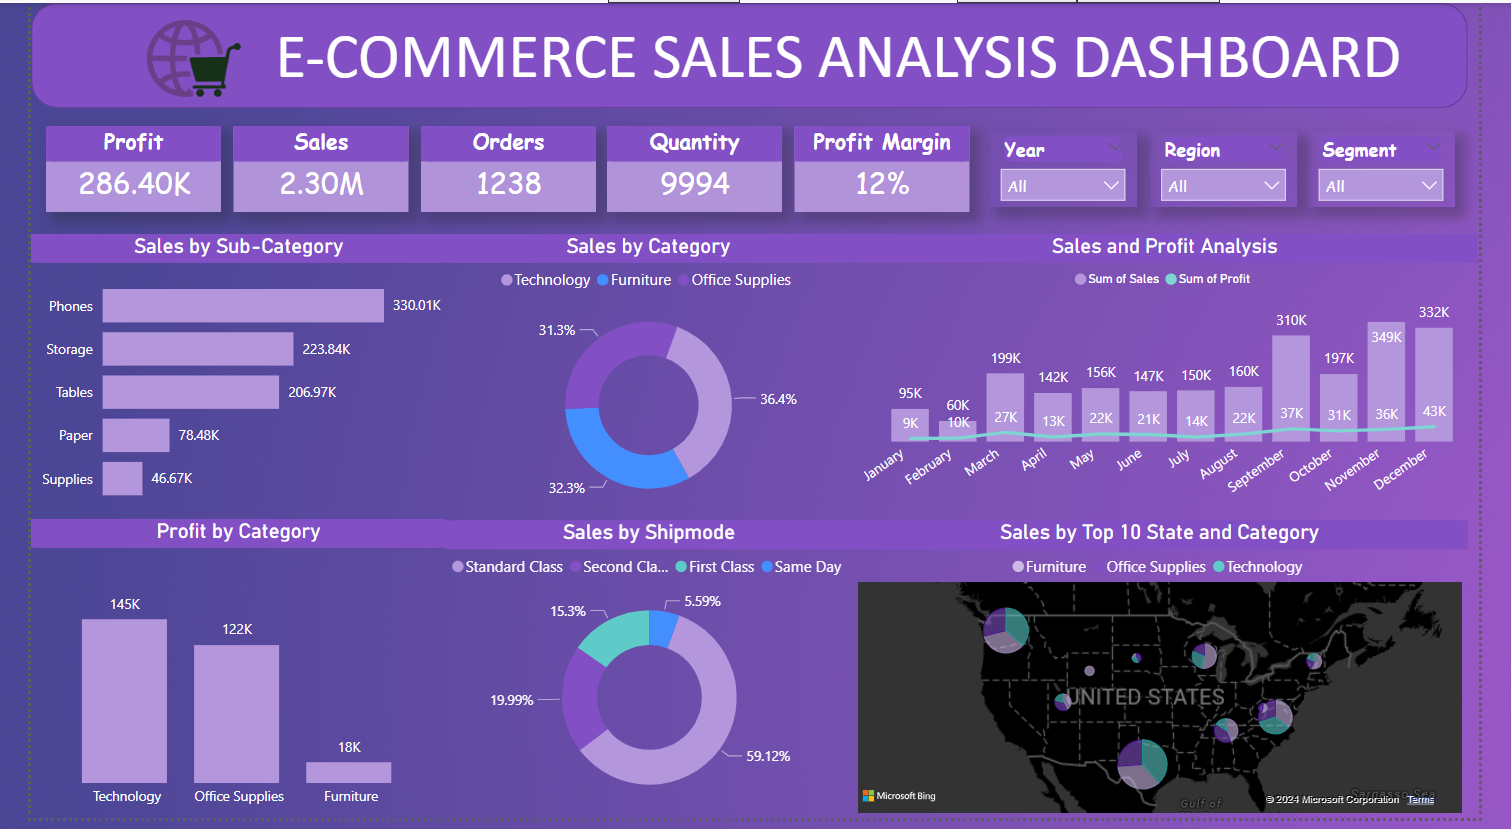

This screenshot's page, from the dashboard's own definition file:
{"tool":"powerbi","page":{"name":"Dashboard","canvas":[1280,720],"ordinal":0},"visuals":[{"type":"card","title":" Profit","fields":{"Values":["Sum(Data.Profit)"]},"box":[13.1,108.1,154.8,75.9],"z":0},{"type":"card","title":" Sales ","fields":{"Values":["Sum(Data.Sales)"]},"box":[179.6,108.1,154.8,75.9],"z":1000},{"type":"card","title":"Orders","fields":{"Values":["Count(Data.Order Date)"]},"box":[344.7,108.1,154.8,75.9],"z":2000},{"type":"card","title":"Quantity","fields":{"Values":["CountNonNull(Data.Quantity)"]},"box":[509.7,108.1,154.8,75.9],"z":3000},{"type":"shape","box":[0,0,1270,92.9],"z":4000},{"type":"donutChart","title":"Sales by Category","fields":{"Category":["Data.Category"],"Y":["Sum(Data.Sales)"]},"box":[366.6,204.5,359.3,252.7],"z":5000},{"type":"clusteredBarChart","title":"Sales by Sub-Category","fields":{"Y":["Sum(Data.Sales)"],"Category":["Data.Sub-Category"]},"box":[0,204.8,367,252],"z":6000},{"type":"columnChart","title":" Profit by Category","fields":{"Y":["Sum(Data.Profit)"],"Category":["Data.Category"]},"box":[0,456.8,367,263],"z":7000},{"type":"lineStackedColumnComboChart","title":"Sales and Profit Analysis","fields":{"Y":["Sum(Data.Sales)"],"Category":["Data.Order Date.Variation.Date Hierarchy.Month"],"Y2":["Sum(Data.Profit)"]},"box":[725.8,204.5,553.5,251.2],"z":8000},{"type":"map","title":" Sales by Top 10 State and Category","fields":{"Category":["Data.State"],"Size":["Sum(Data.Sales)"],"Series":["Data.Category"]},"box":[725.8,457.1,544.7,262.9],"z":9000},{"type":"slicer","fields":{"Values":["Data.Year"]},"box":[847.1,112.5,130,67.2],"z":10000},{"type":"textbox","box":[182.9,7.1,1061.4,80],"z":11000},{"type":"slicer","fields":{"Values":["Data.Region"]},"box":[988.7,112.5,130,67.2],"z":12000},{"type":"slicer","fields":{"Values":["Data.Segment"]},"box":[1128.9,112.5,130,67.2],"z":13000},{"type":"donutChart","title":"Sales by Shipmode","fields":{"Category":["Data.Ship Mode"],"Y":["Sum(Data.Sales)"]},"box":[366.6,457.1,362.2,262.9],"z":14000},{"type":"image","box":[77.4,0,134.4,97.8],"z":15000},{"type":"card","title":"Profit Margin ","fields":{"Values":["Avg(Data.profit margin)"]},"box":[674.7,108.1,154.8,75.9],"z":16000}]}

Visuals, with their boxes in screenshot pixels (x1, y1, x2, y2), scaled from the page's 1280x720 canvas onto the 1511x829 screenshot:
" Profit" card: {"left": 15, "top": 124, "right": 198, "bottom": 212}
" Sales " card: {"left": 212, "top": 124, "right": 395, "bottom": 212}
"Orders" card: {"left": 407, "top": 124, "right": 590, "bottom": 212}
"Quantity" card: {"left": 602, "top": 124, "right": 784, "bottom": 212}
shape: {"left": 0, "top": 0, "right": 1499, "bottom": 107}
"Sales by Category" donutChart: {"left": 433, "top": 235, "right": 857, "bottom": 526}
"Sales by Sub-Category" clusteredBarChart: {"left": 0, "top": 236, "right": 433, "bottom": 526}
" Profit by Category" columnChart: {"left": 0, "top": 526, "right": 433, "bottom": 828}
"Sales and Profit Analysis" lineStackedColumnComboChart: {"left": 857, "top": 235, "right": 1510, "bottom": 525}
" Sales by Top 10 State and Category" map: {"left": 857, "top": 526, "right": 1500, "bottom": 828}
slicer - Data.Year: {"left": 1000, "top": 130, "right": 1153, "bottom": 207}
textbox: {"left": 216, "top": 8, "right": 1469, "bottom": 100}
slicer - Data.Region: {"left": 1167, "top": 130, "right": 1321, "bottom": 207}
slicer - Data.Segment: {"left": 1333, "top": 130, "right": 1486, "bottom": 207}
"Sales by Shipmode" donutChart: {"left": 433, "top": 526, "right": 860, "bottom": 828}
image: {"left": 91, "top": 0, "right": 250, "bottom": 113}
"Profit Margin " card: {"left": 796, "top": 124, "right": 979, "bottom": 212}
